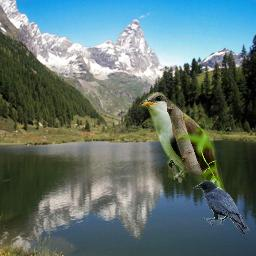Crow: (193, 180, 250, 236)
Cuckoo: (136, 92, 238, 214)
